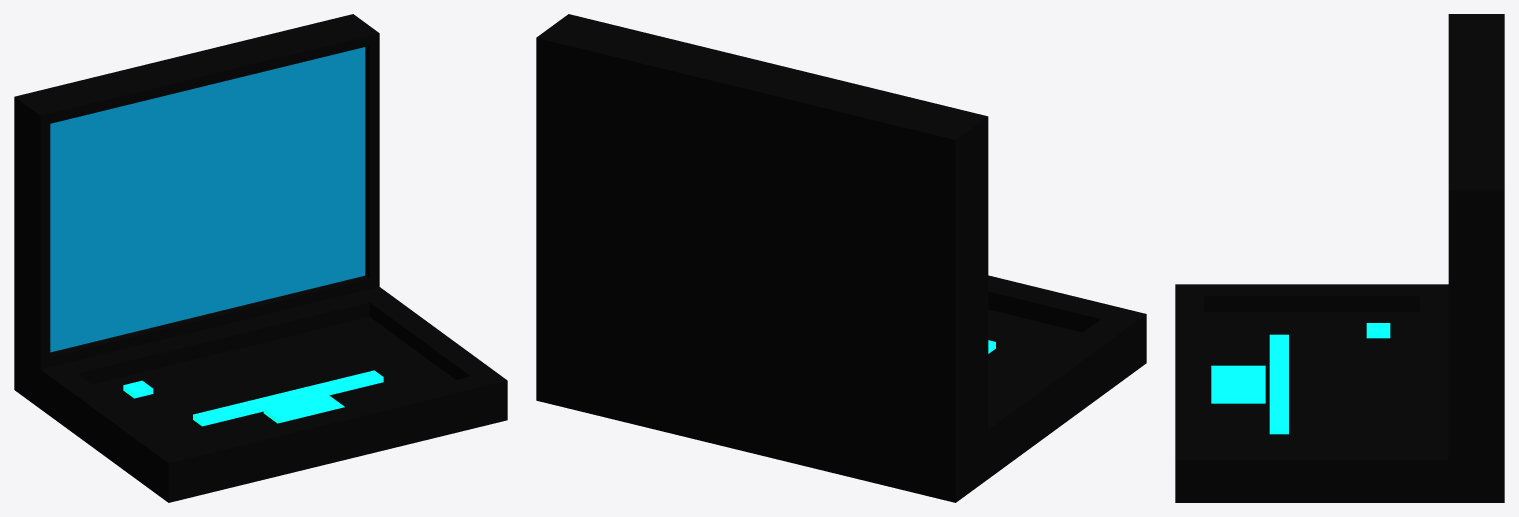
Rendered from Laptop.fbx.
3 views of the same model, side by side, from view 1: azimuth 30°, elevation 25°; view 2: azimuth 150°, elevation 25°; view 3: azimuth 270°, elevation 25° (orthographic). The views are drawn at different scales.
Visible parts, largest first — view 1: Laptop.001; view 2: Laptop.001; view 3: Laptop.001.
Part boxes in pixels (<box>): Laptop.001: <box>14,14,507,502</box>; Laptop.001: <box>536,14,1146,502</box>; Laptop.001: <box>1175,14,1504,502</box>.
Bounding box in the file's own units: 57.81 × 45.59 × 47.78.
